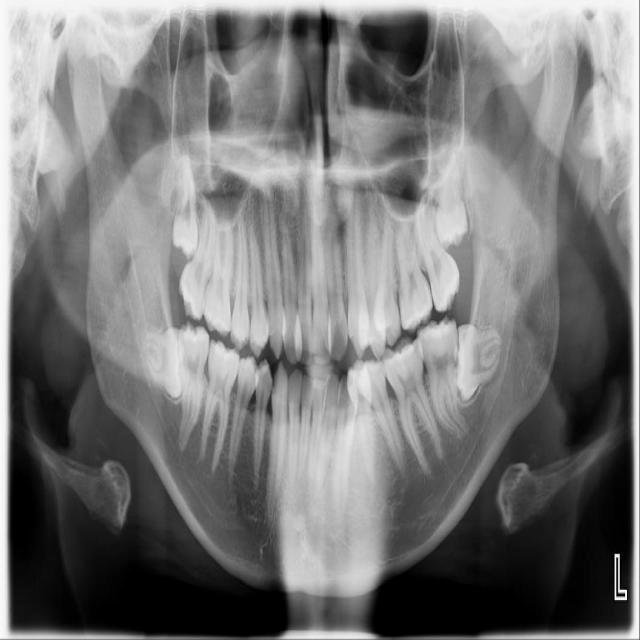impacted tooth: (129, 328, 186, 398), (432, 143, 469, 245), (457, 324, 504, 400), (172, 154, 197, 256)
